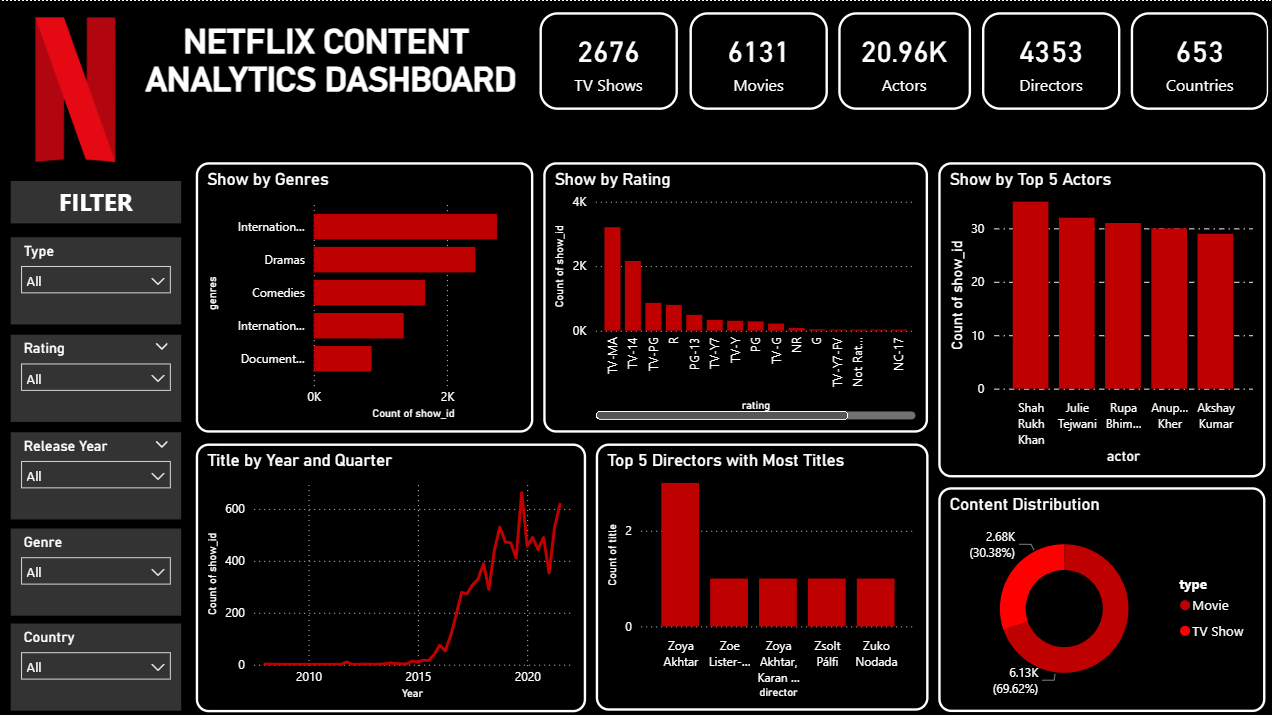

The page's visual inventory and layout, read from the dashboard file:
{"tool":"powerbi","page":{"name":"Page 1","canvas":[1280,720],"ordinal":0},"visuals":[{"type":"clusteredBarChart","title":"Top 5 Genres","fields":{"Category":["clean_genres.Column2"],"Y":["CountNonNull(clean_genres.Column1)"]},"box":[195.7,132.2,337.5,280],"z":0},{"type":"lineChart","title":"Content Released by Year and Quarter","fields":{"Category":["clean_titles.date_added.Variation.Date Hierarchy.Year","clean_titles.date_added.Variation.Date Hierarchy.Quarter"],"Y":["CountNonNull(clean_titles.show_id)"]},"box":[196.2,423.8,390,268.8],"z":1000},{"type":"columnChart","title":"Top 5 Actors","fields":{"Category":["clean_cast.actor"],"Y":["CountNonNull(clean_cast.show_id)"]},"box":[938.2,132.2,327.5,325],"z":2000},{"type":"columnChart","title":"Show by Rating","fields":{"Y":["CountNonNull(clean_titles.show_id)"],"Category":["clean_titles.rating"]},"box":[543.2,132.2,385,280],"z":3000},{"type":"columnChart","title":"Top 5 Directors with Most Titles","fields":{"Category":["clean_titles.director"],"Y":["Count(clean_titles.title)"]},"box":[596,423.5,332.5,267.5],"z":4000},{"type":"image","box":[28.8,16.2,98.8,145],"z":5000},{"type":"textbox","box":[136.2,16.2,395,96.2],"z":6000},{"type":"card","fields":{"Values":["CountNonNull(clean_titles.type)"]},"box":[692,11.3,138.8,97.5],"z":7000,"group":"g1"},{"type":"card","fields":{"Values":["Count(clean_cast.actor)"]},"box":[841.5,11.3,132.5,97.5],"z":8000,"group":"g1"},{"type":"slicer","fields":{"Values":["clean_titles.type"]},"box":[14,236.2,170,87.5],"z":9000},{"type":"slicer","fields":{"Values":["clean_titles.rating"]},"box":[14,333.8,170,87.5],"z":10000},{"type":"slicer","fields":{"Values":["clean_titles.release_year"]},"box":[14,431.2,170,87.5],"z":11000},{"type":"slicer","fields":{"Values":["clean_genres.genres"]},"box":[14,527.5,170,87.5],"z":12000},{"type":"slicer","fields":{"Values":["clean_titles.country"]},"box":[14,622.5,170,87.5],"z":13000},{"type":"textbox","box":[13.8,180,170,42.5],"z":14000},{"type":"donutChart","title":"Content Distribution","fields":{"Category":["clean_titles.type"],"Y":["CountNonNull(clean_titles.show_id)"]},"box":[938.2,467.2,327.5,225],"z":15000},{"type":"card","fields":{"Values":["Count(clean_titles.director)"]},"box":[984.7,11.3,138.8,97.5],"z":16000,"group":"g1"},{"type":"card","fields":{"Values":["Count(clean_titles.country)"]},"box":[1134.3,11.3,138.8,97.5],"z":17000,"group":"g1"},{"type":"card","fields":{"Values":["CountNonNull(clean_titles.type)"]},"box":[542.5,11.3,138.8,97.5],"z":18000,"group":"g1"},{"type":"group","id":"g1","title":"Group 1","box":[542.5,11.3,730.5,97.5],"z":18001}]}

Visuals, with their boxes in screenshot pixels (x1, y1, x2, y2), scaled from the page's 1280x720 canvas onto the 1272x715 screenshot:
"Top 5 Genres" clusteredBarChart: crop(194, 131, 530, 409)
"Content Released by Year and Quarter" lineChart: crop(195, 421, 583, 688)
"Top 5 Actors" columnChart: crop(932, 131, 1258, 454)
"Show by Rating" columnChart: crop(540, 131, 922, 409)
"Top 5 Directors with Most Titles" columnChart: crop(592, 421, 923, 686)
image: crop(29, 16, 127, 160)
textbox: crop(135, 16, 528, 112)
card - CountNonNull(clean_titles.type): crop(688, 11, 826, 108)
card - Count(clean_cast.actor): crop(836, 11, 968, 108)
slicer - clean_titles.type: crop(14, 235, 183, 321)
slicer - clean_titles.rating: crop(14, 331, 183, 418)
slicer - clean_titles.release_year: crop(14, 428, 183, 515)
slicer - clean_genres.genres: crop(14, 524, 183, 611)
slicer - clean_titles.country: crop(14, 618, 183, 705)
textbox: crop(14, 179, 183, 221)
"Content Distribution" donutChart: crop(932, 464, 1258, 687)
card - Count(clean_titles.director): crop(979, 11, 1116, 108)
card - Count(clean_titles.country): crop(1127, 11, 1265, 108)
card - CountNonNull(clean_titles.type): crop(539, 11, 677, 108)
"Group 1" group: crop(539, 11, 1265, 108)
